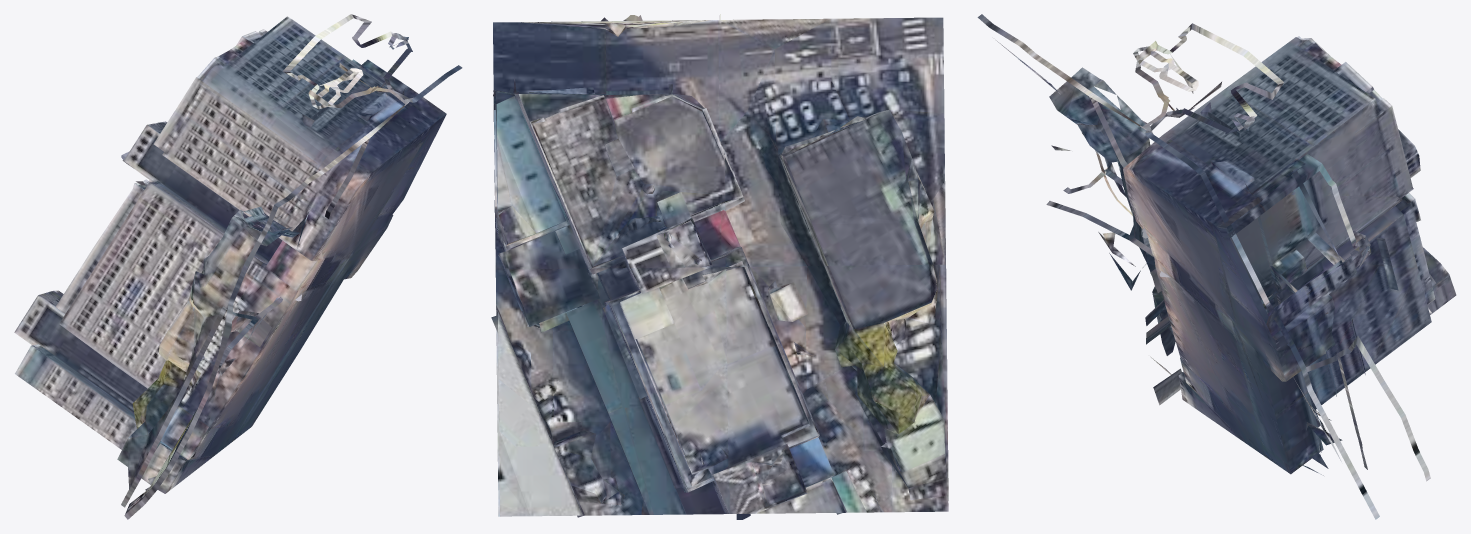
The picture shows the model from 3 angles, left to right: view 1: azimuth 30°, elevation 25°; view 2: azimuth 150°, elevation 25°; view 3: azimuth 270°, elevation 25°; orthographic projection. The views are drawn at different scales.
Bounding box in the file's own units: 78.64 × 80.32 × 76.61.
2 materials, 2 textured.
